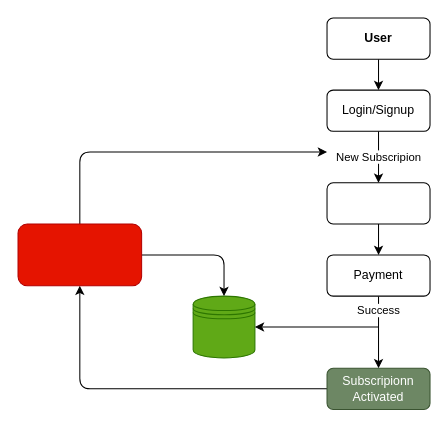
This 448x427 diagram has some shape labels left out. Here are the shapes that lost their labels. From the top down, the centre of each, then its label:
[378,203]: Select Plan
[79,254]: Cancel Subscription
